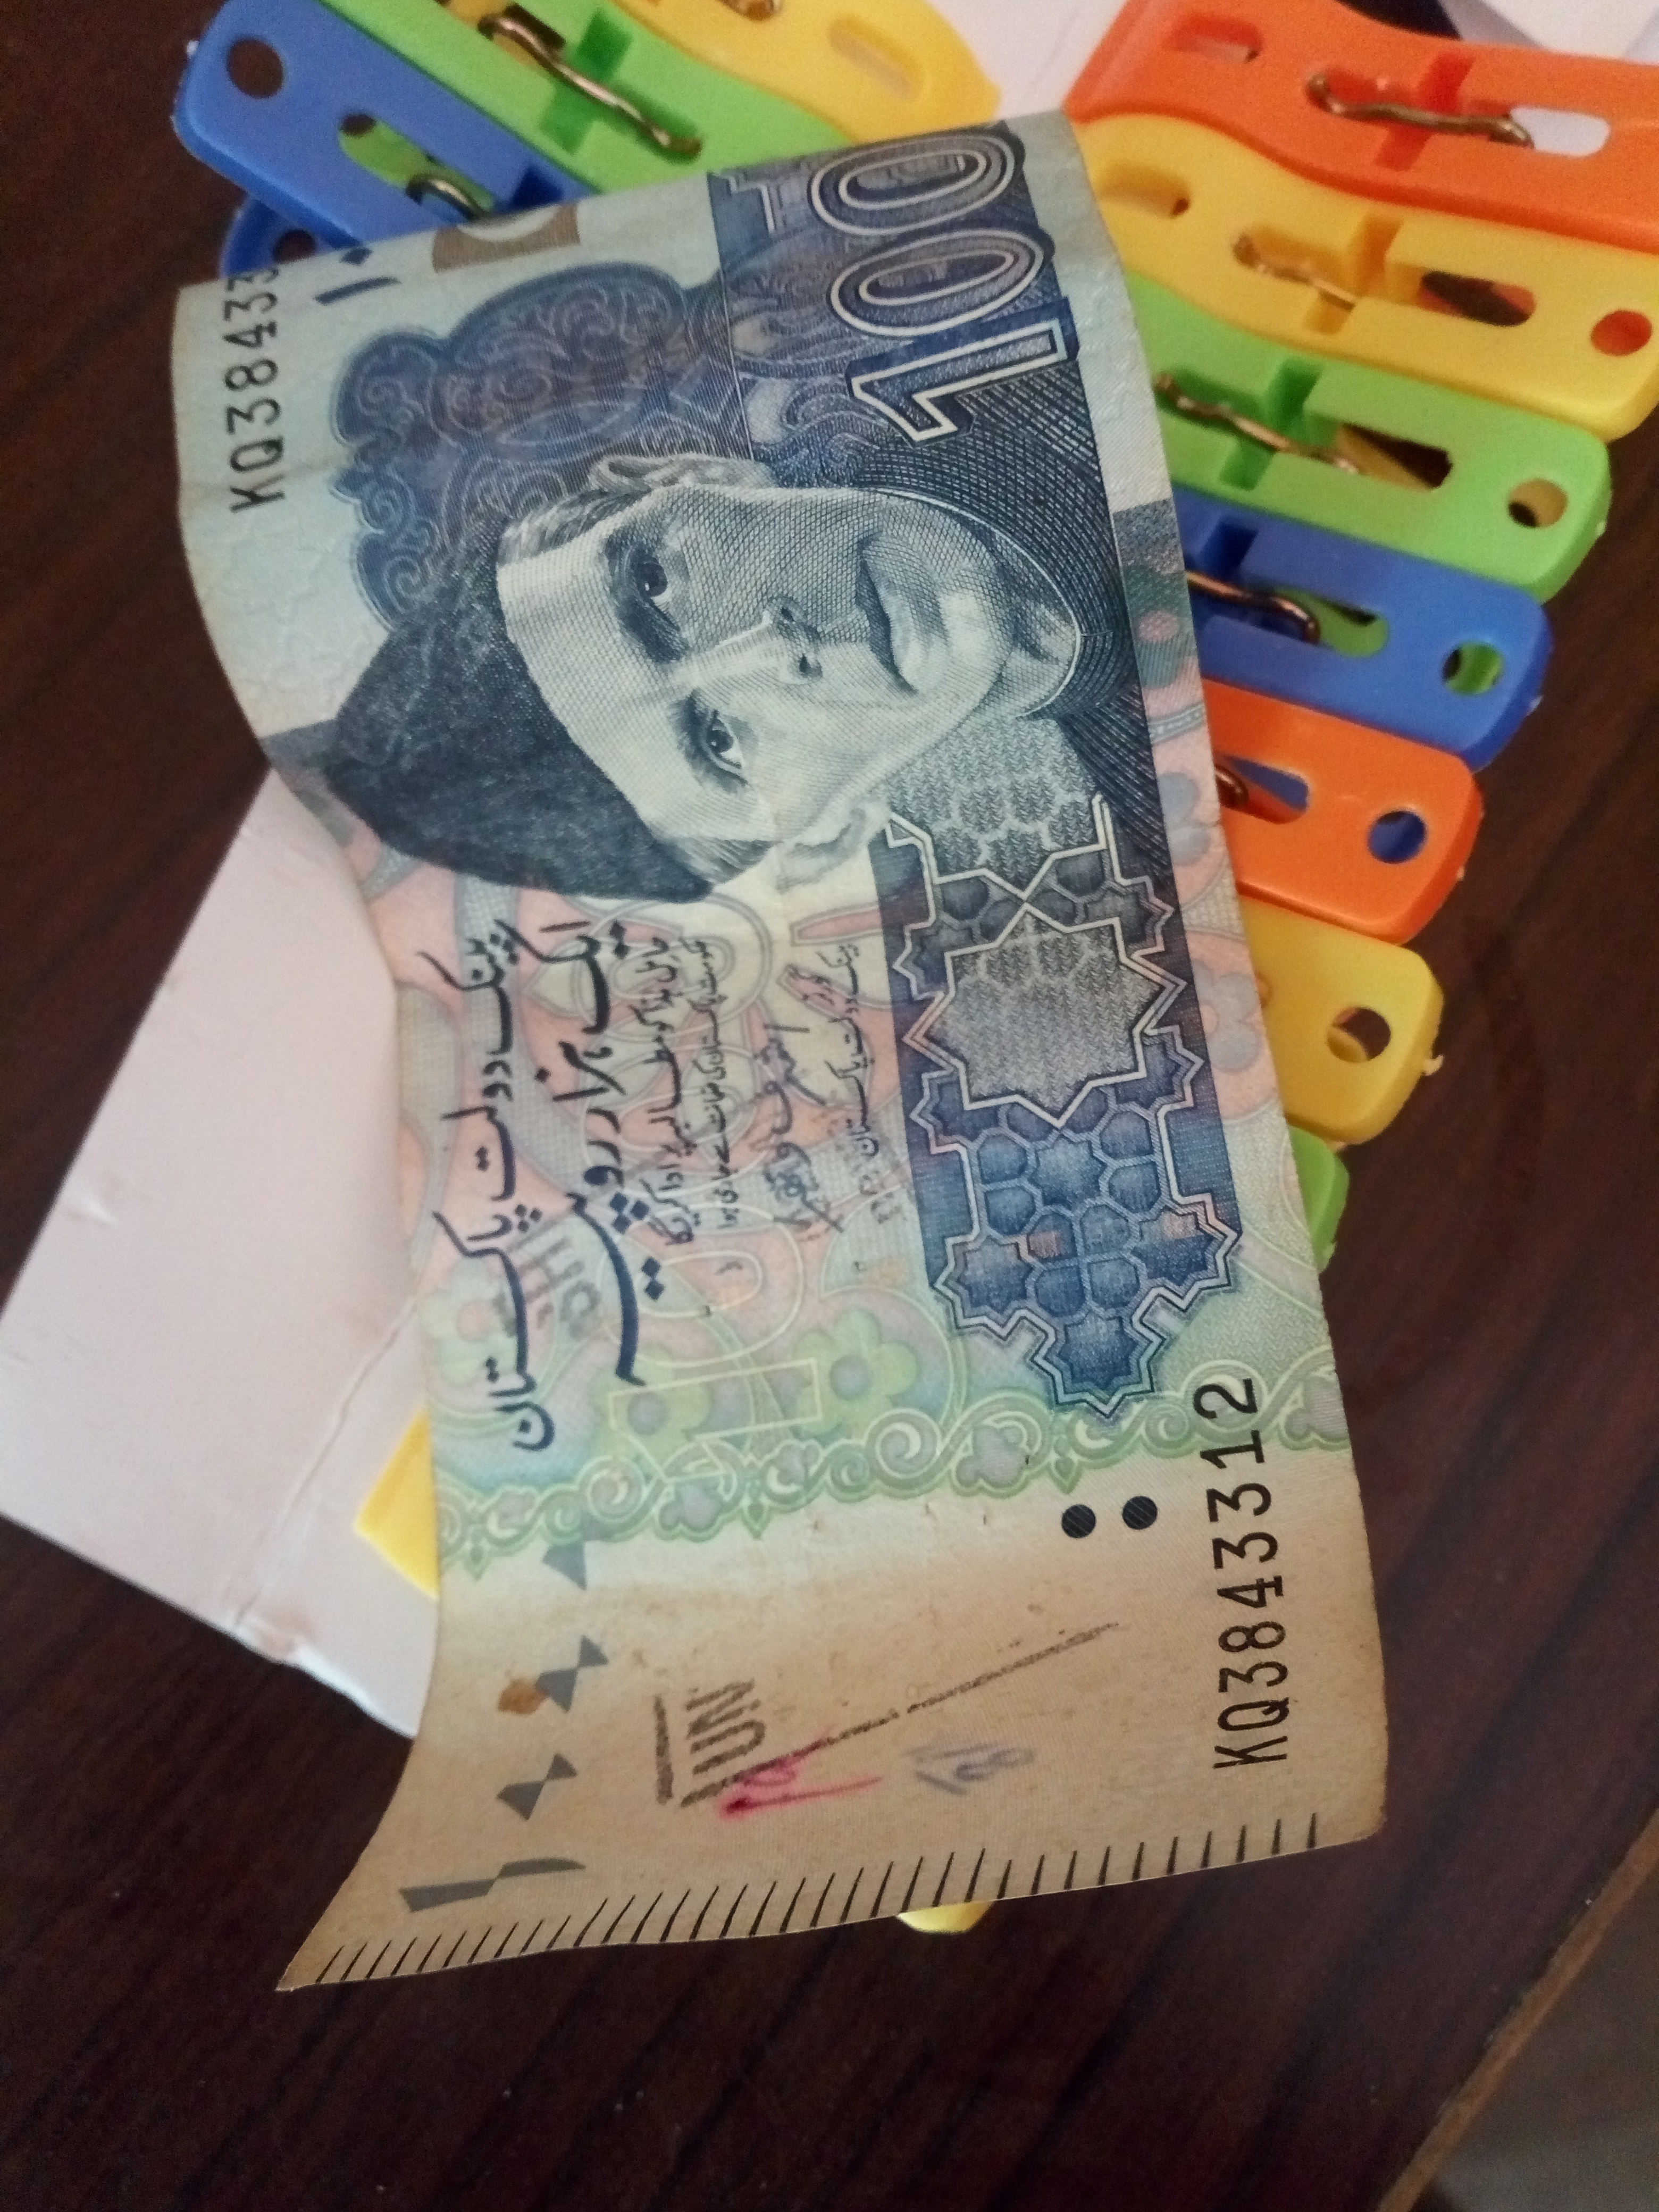1000 rupee: (35, 105, 1474, 2024)
